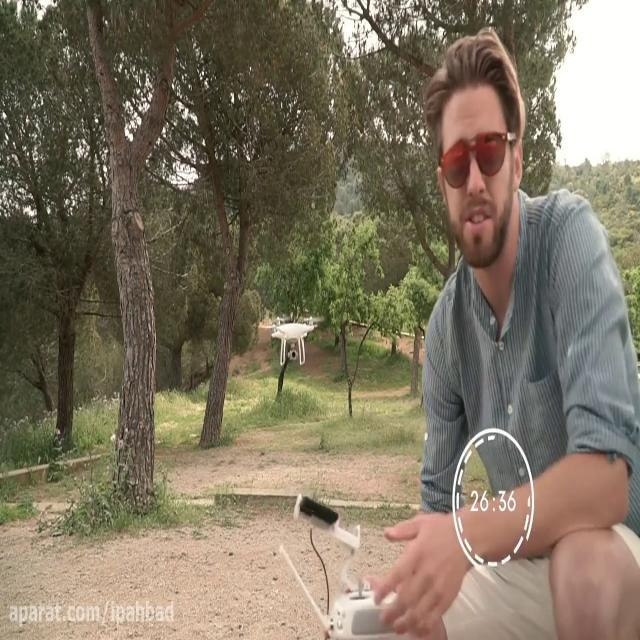drone: (264, 310, 326, 366)
